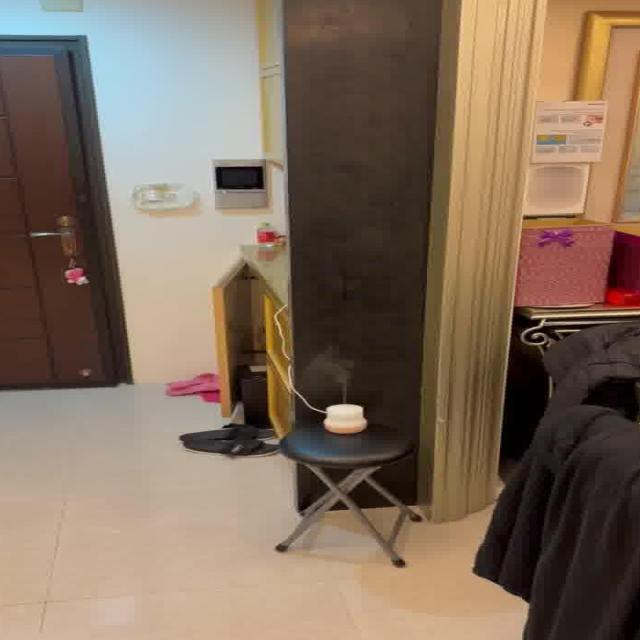fire: (310, 350, 368, 398)
